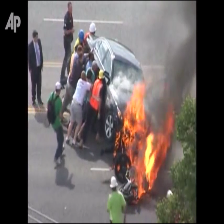fire_h: (121, 78, 174, 201)
fire_l: (113, 132, 121, 158), (126, 162, 129, 168), (117, 164, 120, 169)
